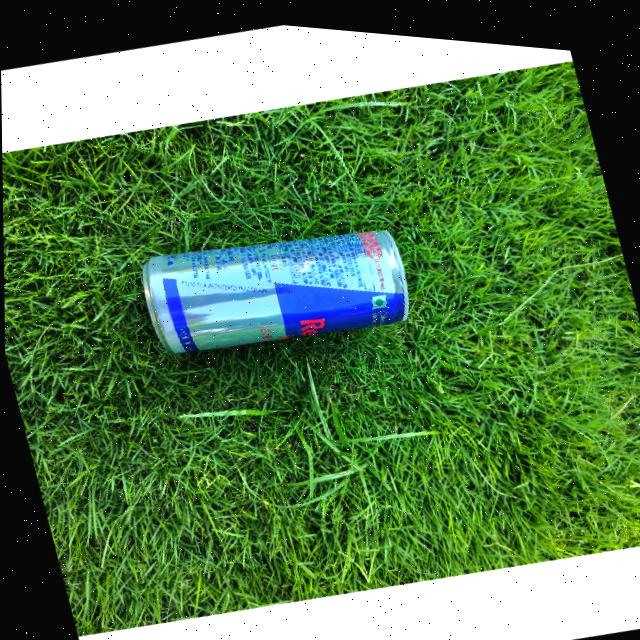Redbull: (137, 196, 414, 374)
